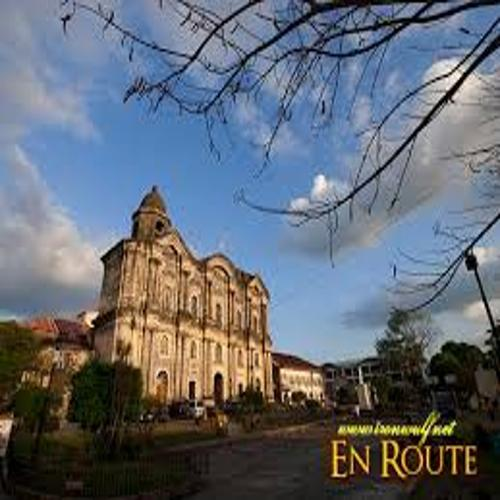Taal Basilica Church: (73, 179, 275, 417)
